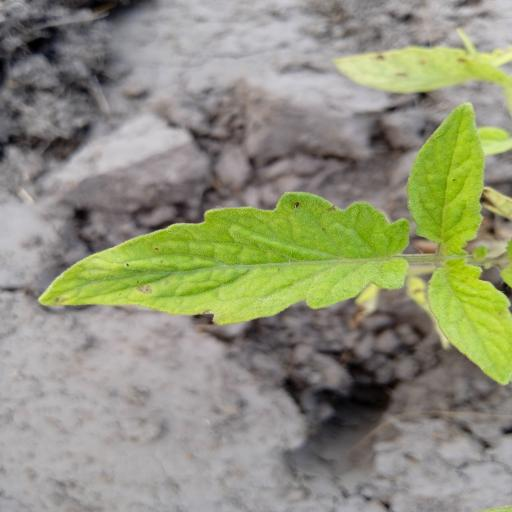Tomato_Brown_Spots: (30, 186, 416, 330)
